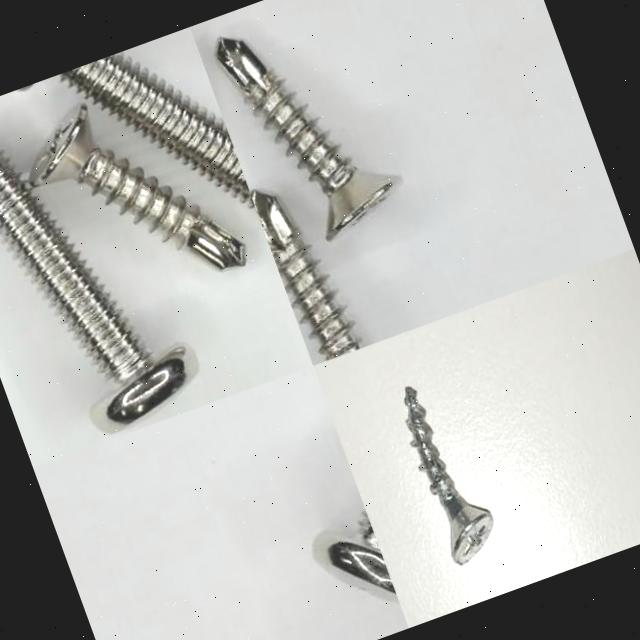Screw: (0, 148, 199, 433), (217, 38, 399, 239), (30, 105, 246, 270), (58, 52, 256, 209), (252, 190, 360, 360), (405, 387, 494, 566)
